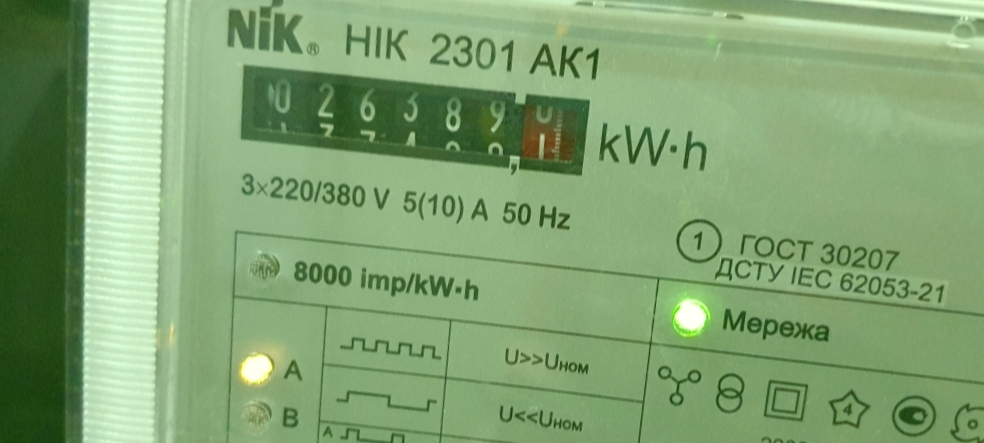0: (269, 74, 297, 116), (534, 102, 555, 125)
1: (534, 129, 550, 162)
2: (313, 79, 341, 120)
3: (401, 88, 422, 125)
6: (357, 83, 380, 124)
8: (442, 93, 467, 134)
9: (486, 98, 508, 134)
screen: (219, 43, 609, 195)
